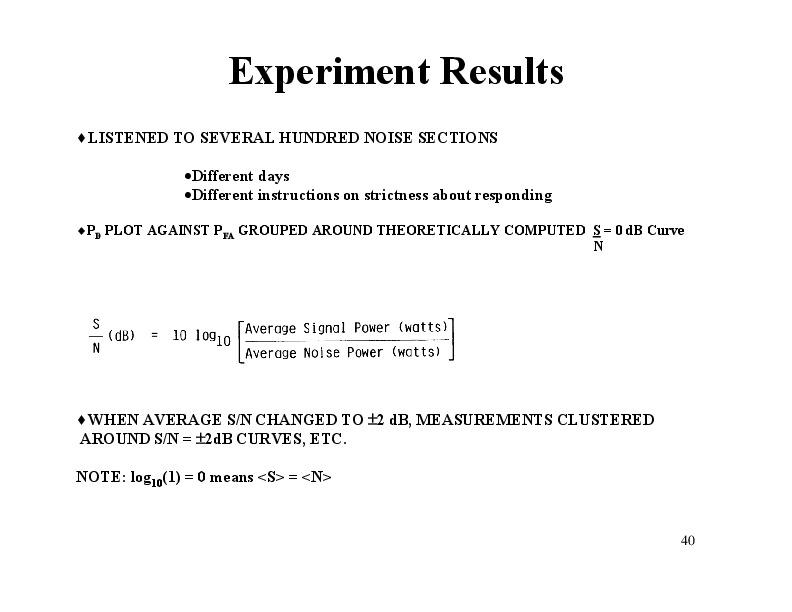paragraph: (71, 119, 735, 494)
title: (227, 47, 573, 101)
